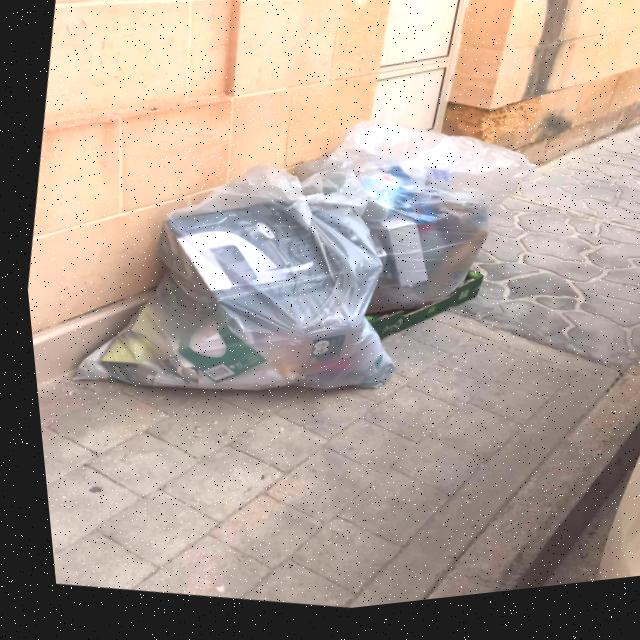Recycled Waste -Grey or Green Bag-: (39, 128, 423, 449), (245, 99, 553, 371)
